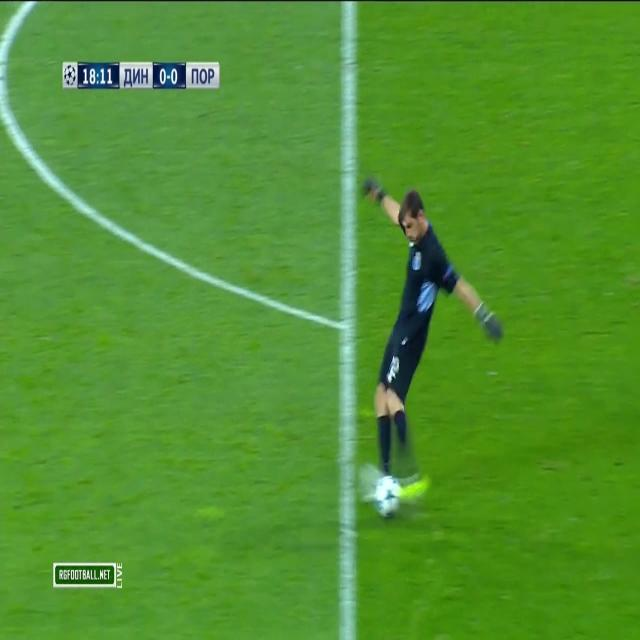Ball: (371, 474, 404, 522)
Goalkeeper: (360, 162, 505, 498)
